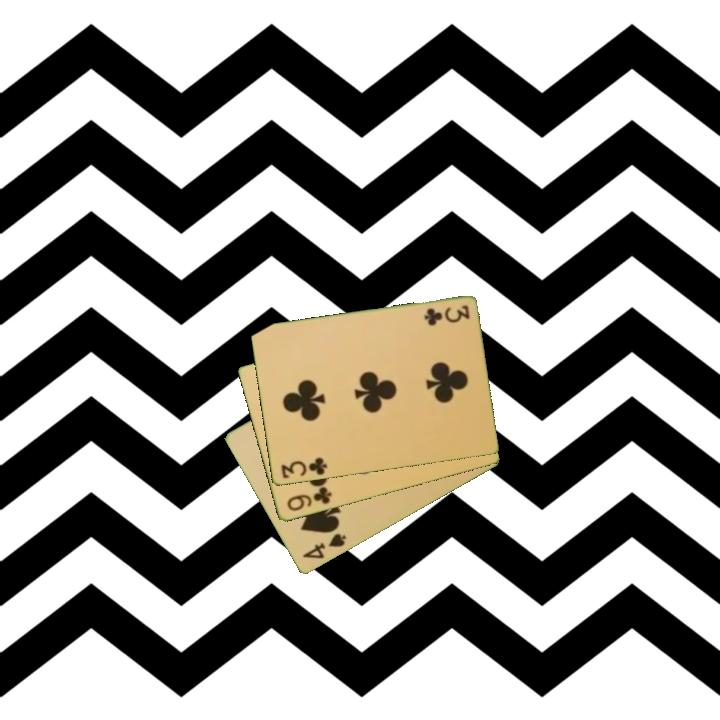3c: (277, 454, 330, 482), (420, 302, 472, 327)
4s: (299, 530, 349, 562)
9c: (283, 484, 334, 514)
